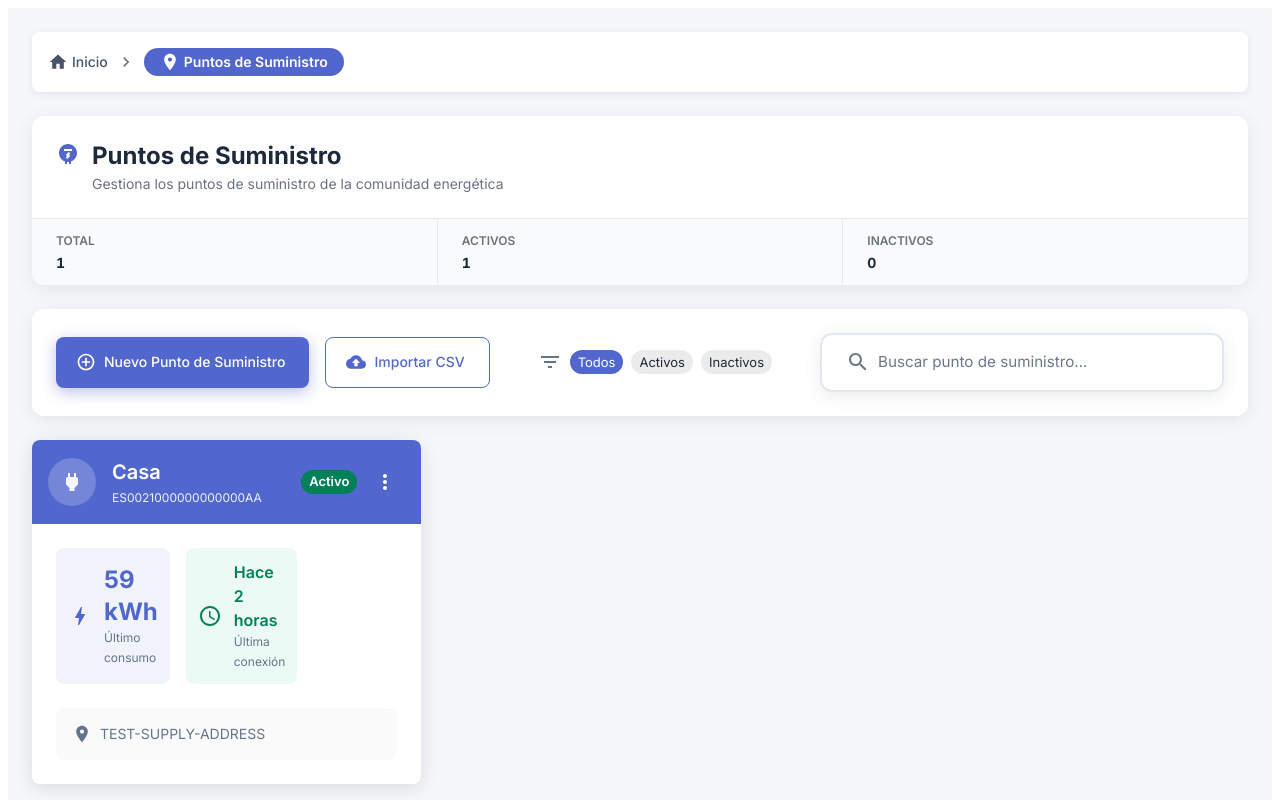
Test case: SupplyPointsPage › an admin of the community › gets a card with the actions menu
What coordinates should you click on to do the following:
click the button named "Más acciones para Casa"
I would click on:
 (385, 482)
Its box is [365,462,405,502].
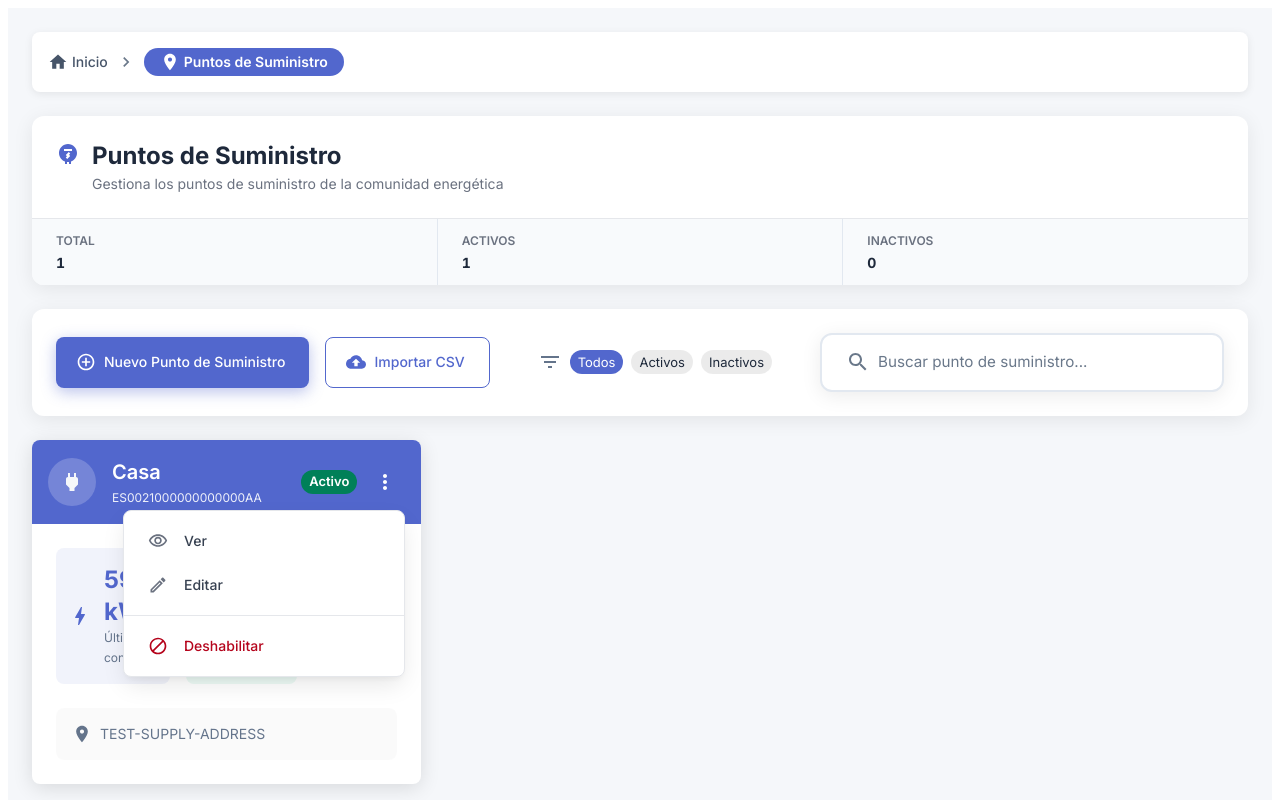
Expected: the text "Editar" is shown, [184,575,223,595]
Expected: the text "Deshabilitar" is shown, [184,636,264,656]
